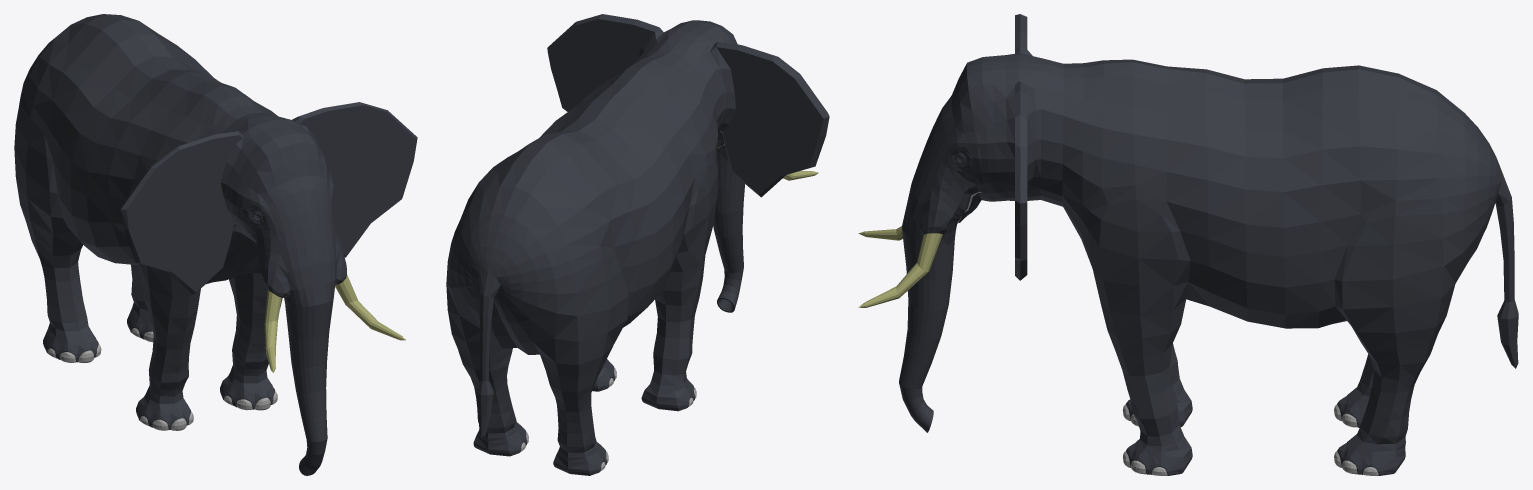
File: elephant_elephant_triangulated.obj
3 renders of one model, left to right at view 1: azimuth 30°, elevation 25°; view 2: azimuth 150°, elevation 25°; view 3: azimuth 270°, elevation 25°, orthographic. The views are drawn at different scales.
Size of the model in its own units: 2.82 by 3.01 by 4.75.
